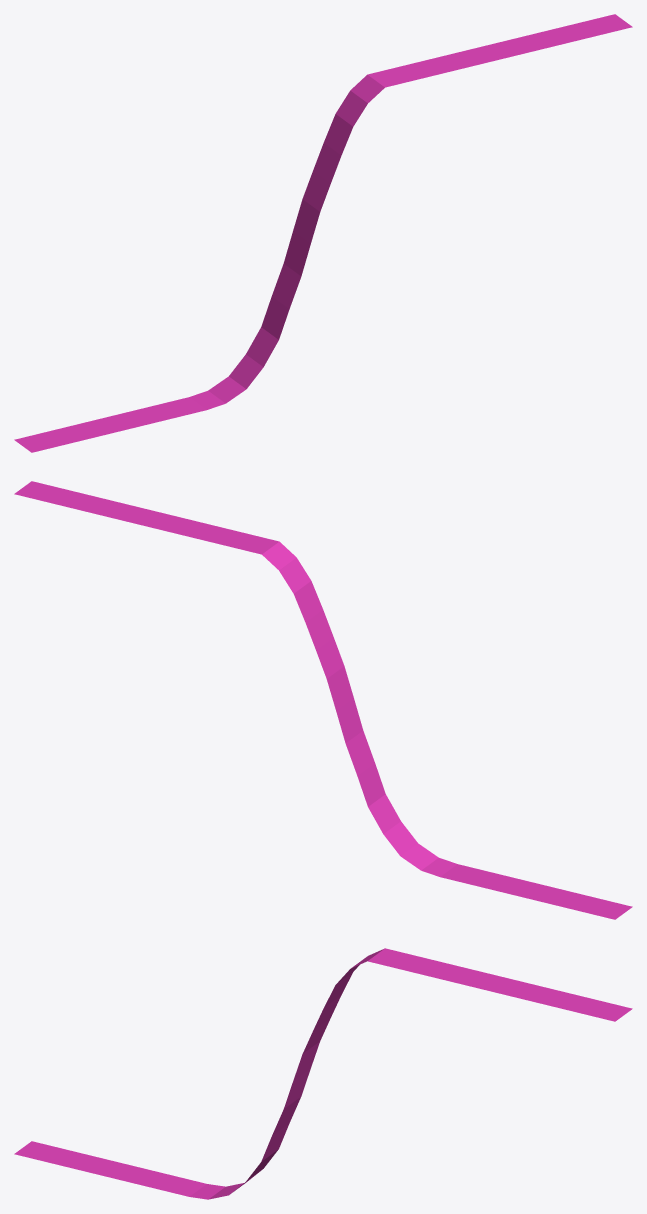
Rendered from abaco_rampa.FBX.
The picture shows the model from 3 angles, top to bottom: view 1: azimuth 30°, elevation 25°; view 2: azimuth 150°, elevation 25°; view 3: azimuth 330°, elevation 25°; orthographic projection.
Visible parts, largest first — view 1: Line001; view 2: Line001; view 3: Line001.
Part boxes in pixels (x1,y1,x2,y2): Line001: (14, 14, 632, 452); Line001: (14, 481, 632, 919); Line001: (14, 948, 632, 1199).
Bounding box in the file's own units: 38.95 × 17.28 × 2.
